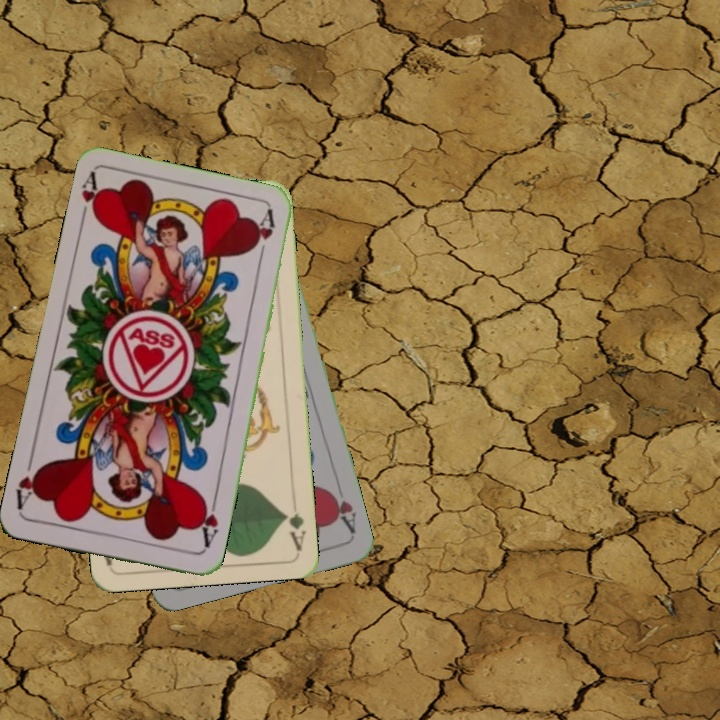GA: (280, 508, 308, 552)
HA: (324, 484, 359, 537), (76, 170, 106, 229), (194, 494, 221, 553)
